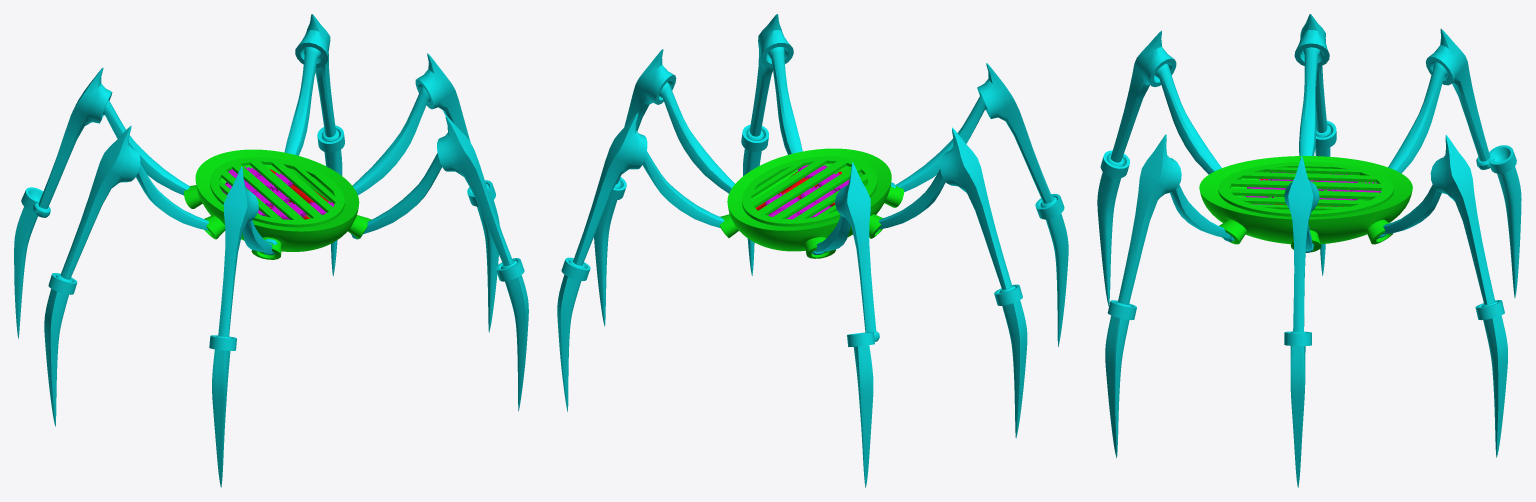
File: Spider Enemy2.fbx
The picture shows the model from 3 angles, left to right: view 1: azimuth 30°, elevation 25°; view 2: azimuth 150°, elevation 25°; view 3: azimuth 270°, elevation 25°; orthographic projection. The views are drawn at different scales.
Visible parts, largest first — view 1: Spider Chassie, Spider Shin.004, Spider Shin, Spider Shin.005, Spider Shin.003, Spider Foot.004, Spider Shin.002, Spider Foot.005, Spider Foot, Spider Thigh.001, Spider Foot.003, Spider Shin.001 (+7 smaller); view 2: Spider Chassie, Spider Shin.004, Spider Shin.002, Spider Shin.003, Spider Shin.005, Spider Foot.004, Spider Shin, Spider Foot.003, Spider Foot.002, Spider Thigh.001, Spider Foot.005, Spider Shin.001 (+7 smaller); view 3: Spider Chassie, Spider Shin.002, Spider Shin, Spider Shin.001, Spider Shin.003, Spider Shin.005, Spider Foot, Spider Foot.003, Spider Foot.002, Spider Foot.005, Spider Foot.001, Spider Thigh.005 (+6 smaller).
Boxes of the visible parts, x1,y1,x2,y2 form: Spider Chassie: [184, 149, 371, 259]; Spider Shin.004: [56, 126, 140, 282]; Spider Shin: [437, 115, 517, 269]; Spider Shin.005: [216, 166, 258, 338]; Spider Shin.003: [33, 67, 112, 217]; Spider Foot.004: [44, 273, 77, 426]; Spider Shin.002: [295, 14, 339, 141]; Spider Foot.005: [209, 335, 236, 487]; Spider Foot: [495, 258, 528, 411]; Spider Thigh.001: [352, 87, 430, 195]; Spider Foot.003: [14, 187, 43, 338]; Spider Shin.001: [415, 53, 488, 194]; Spider Chassie: [719, 148, 903, 258]; Spider Shin.004: [940, 127, 1015, 293]; Spider Shin.002: [569, 112, 647, 268]; Spider Shin.003: [835, 162, 879, 341]; Spider Shin.005: [977, 63, 1057, 207]; Spider Foot.004: [994, 284, 1027, 438]; Spider Shin: [746, 14, 793, 140]; Spider Foot.003: [847, 332, 874, 487]; Spider Foot.002: [557, 257, 590, 411]; Spider Thigh.001: [659, 82, 734, 193]; Spider Foot.005: [1035, 193, 1068, 346]; Spider Shin.001: [614, 49, 676, 188]; Spider Chassie: [1199, 156, 1412, 252]; Spider Shin.002: [1430, 135, 1497, 307]; Spider Shin: [1115, 134, 1181, 307]; Spider Shin.001: [1284, 156, 1319, 333]; Spider Shin.003: [1426, 29, 1494, 169]; Spider Shin.005: [1107, 30, 1176, 166]; Spider Foot: [1105, 300, 1136, 457]; Spider Foot.003: [1487, 145, 1521, 297]; Spider Foot.002: [1475, 300, 1507, 457]; Spider Foot.005: [1097, 150, 1129, 306]; Spider Foot.001: [1284, 331, 1311, 487]; Spider Thigh.005: [1155, 63, 1221, 174].
Size of the model in its own units: 231 by 148 by 188.
